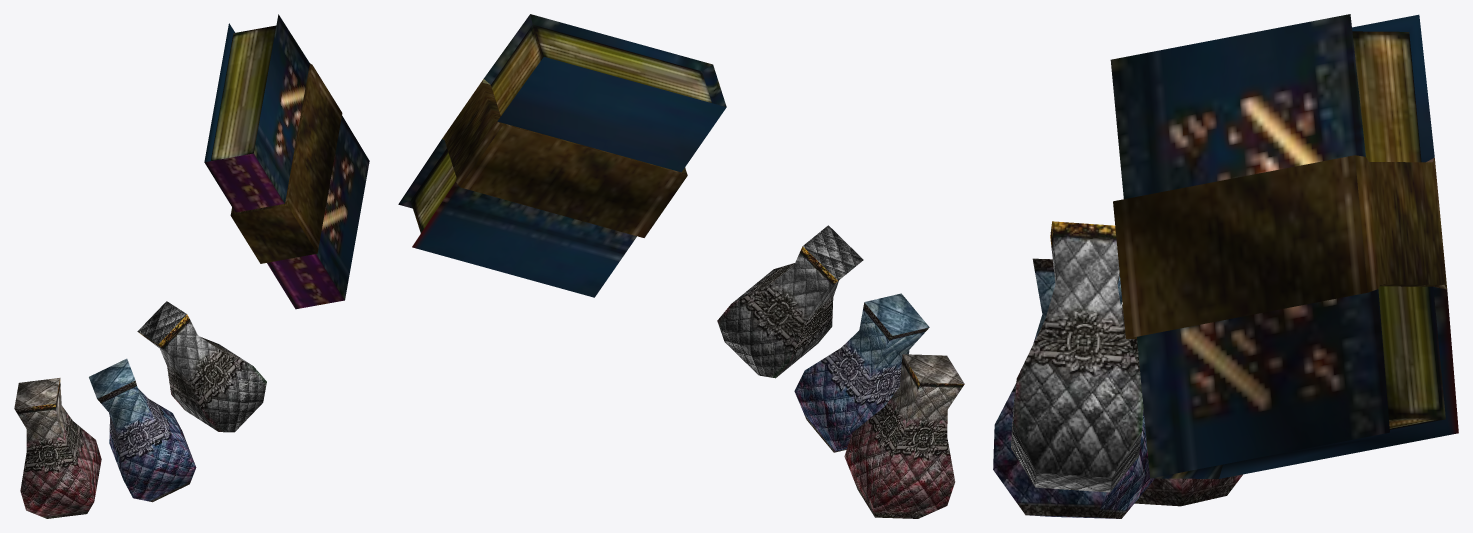
Rendered from STATIC_FIOLKI_NIEBIESKA_FIX.glb.
3 renders of one model, left to right at view 1: azimuth 30°, elevation 25°; view 2: azimuth 150°, elevation 25°; view 3: azimuth 270°, elevation 25°, orthographic. The views are drawn at different scales.
Parts seen in each view (by area): view 1: Mesh; view 2: Mesh; view 3: Mesh.
Boxes of the visible parts, x1,y1,x2,y2 form: Mesh: (14,14,369,518); Mesh: (398,14,964,518); Mesh: (993,14,1458,518).
Size of the model in its own units: 0.3684 by 0.3351 by 0.1942.
Materials: 2 (2 with a texture image).
